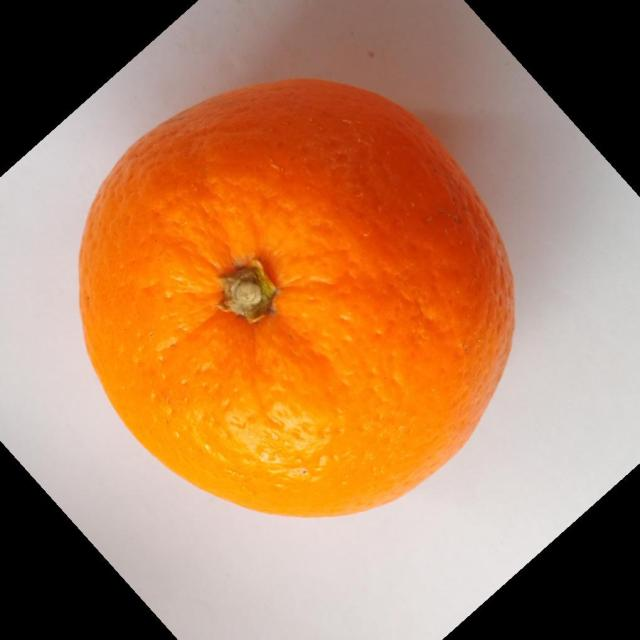fresh orange: (76, 76, 516, 519)
